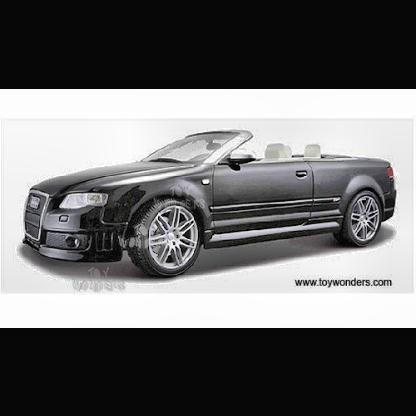Audi RS 4 Convertible 2008: (22, 127, 400, 278)
